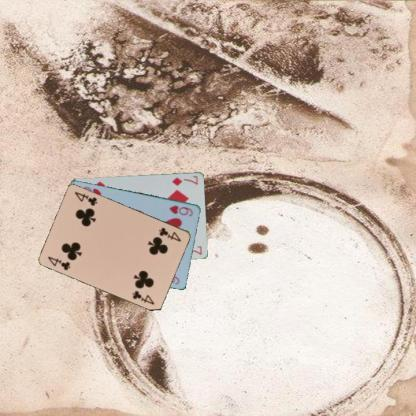4c: (156, 224, 182, 242), (46, 254, 72, 272)
6h: (167, 203, 194, 217)
7d: (170, 173, 199, 187)
